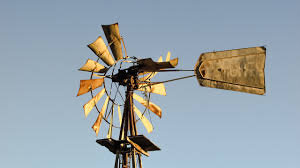faulty: (77, 19, 180, 128)
